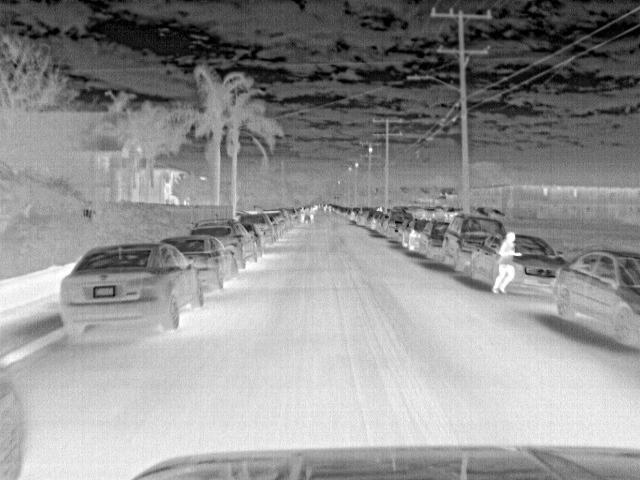car: (58, 241, 206, 342), (554, 251, 639, 349), (161, 236, 243, 294), (439, 214, 504, 274), (516, 232, 566, 303), (191, 222, 255, 269), (467, 234, 507, 280), (418, 214, 454, 260), (237, 211, 275, 242), (403, 220, 430, 252), (387, 212, 413, 242), (244, 225, 266, 257), (263, 209, 290, 235), (278, 206, 301, 226), (358, 205, 374, 225), (367, 210, 381, 230), (349, 206, 363, 222)
person: (494, 232, 525, 296), (296, 206, 309, 227), (306, 204, 319, 224)
